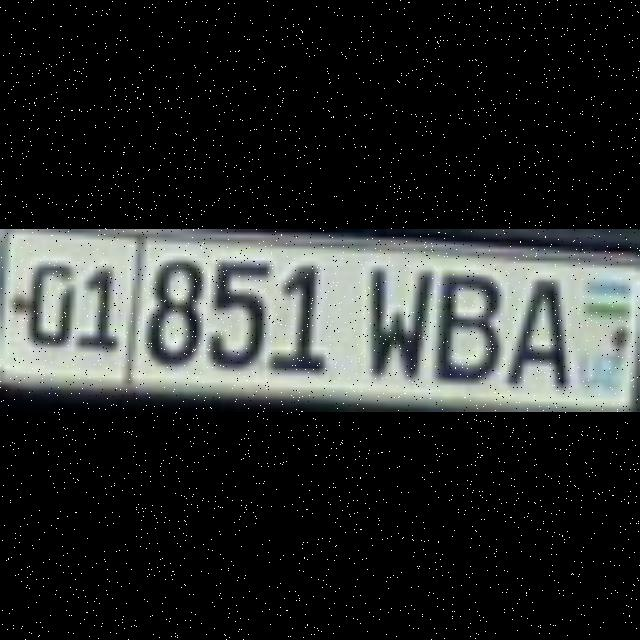0: (18, 256, 66, 342)
1: (268, 261, 320, 365), (71, 260, 113, 346)
5: (203, 252, 259, 360)
8: (136, 252, 198, 360)
A: (504, 275, 564, 383)
B: (434, 270, 494, 378)
W: (362, 260, 423, 374)
